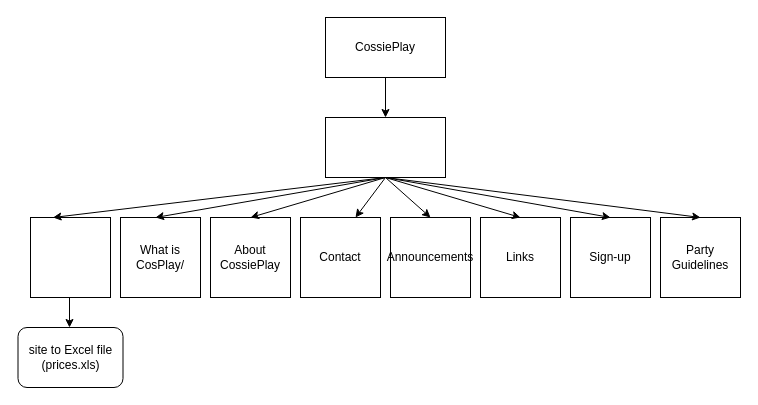
The diagram is 758 pixels wide and 405 high, and some of its shapes have lost their labels. Each missing label, with the centre of its shape:
"Content" belongs at pixel 70 257.
"Home page" belongs at pixel 385 147.
